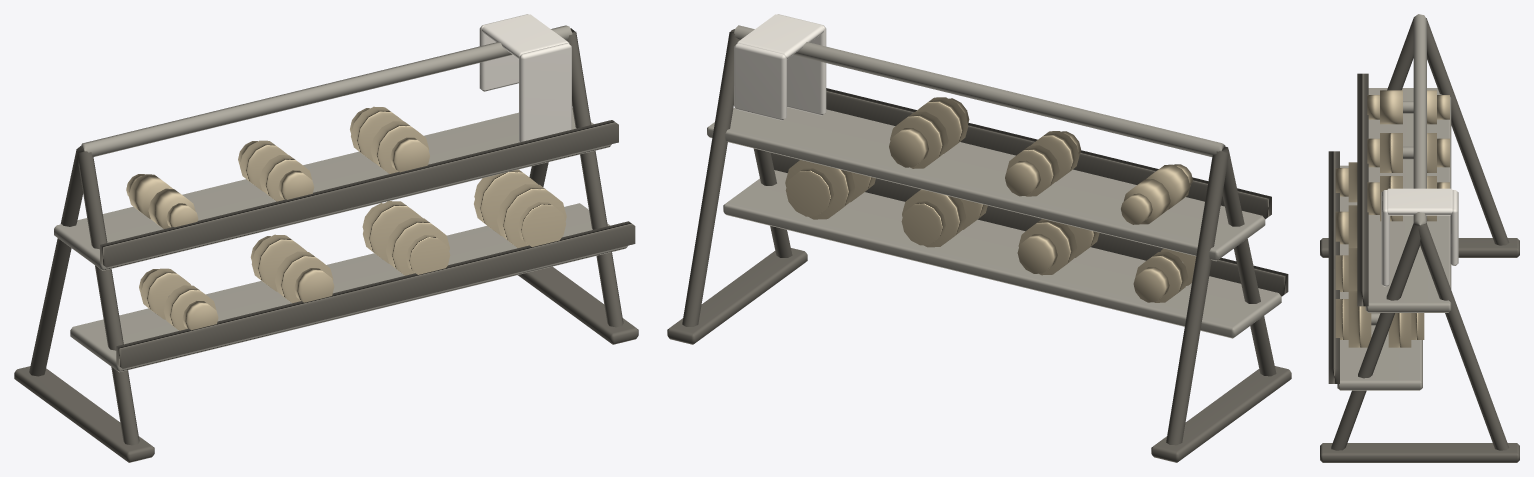
Rendered from dumbbell_rack.glb.
3 views of the same model, side by side, from view 1: azimuth 30°, elevation 25°; view 2: azimuth 150°, elevation 25°; view 3: azimuth 270°, elevation 25° (orthographic). The views are drawn at different scales.
Parts seen in each view (by area): view 1: Rack; view 2: Rack; view 3: Rack.
Boxes of the visible parts, x1,y1,x2,y2 form: Rack: (14,14,638,462); Rack: (667,14,1291,462); Rack: (1320,14,1519,462).
Bounding box in the file's own units: 1.8 × 0.9429 × 0.7.
